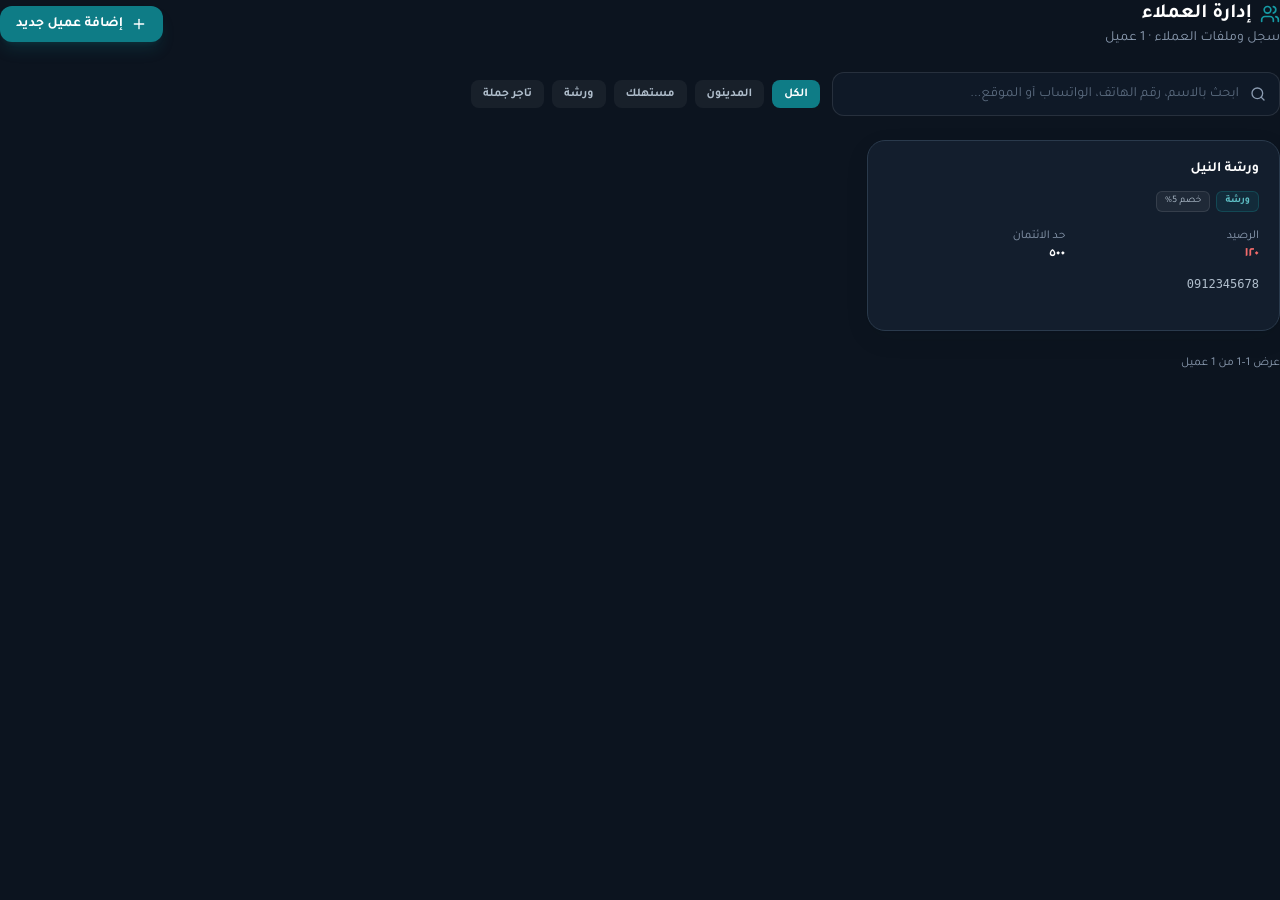
it: صفحة العملاء › الموظف يضيف عميلاً بلا حقول الخصم والائتمان
The image size is (1280, 900).
Expected: the heading "ورشة النيل" is shown, [1191, 161, 1259, 178]
Step 1. Click the button "إضافة عميل جديد" → (82, 24), box [0, 6, 163, 42]
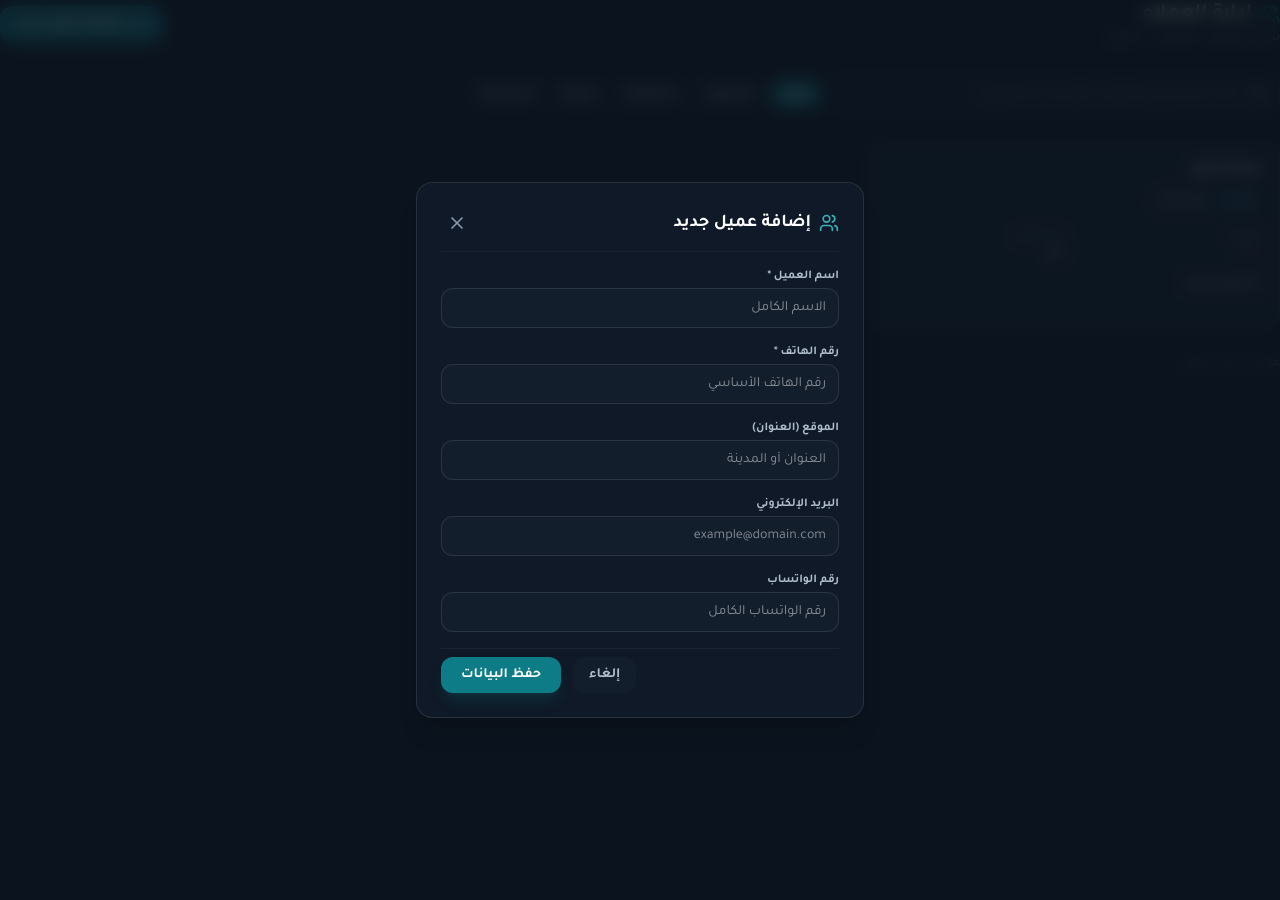
Now the dialog is shown, box [416, 182, 864, 718]
